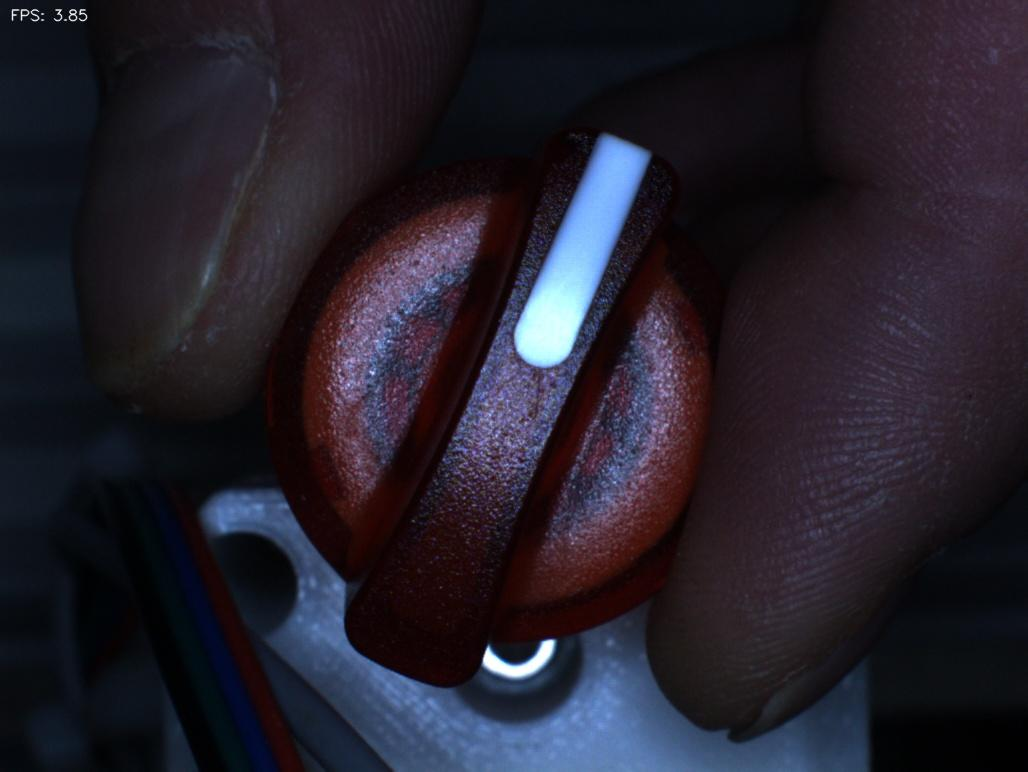Choc: (514, 98, 608, 181)
